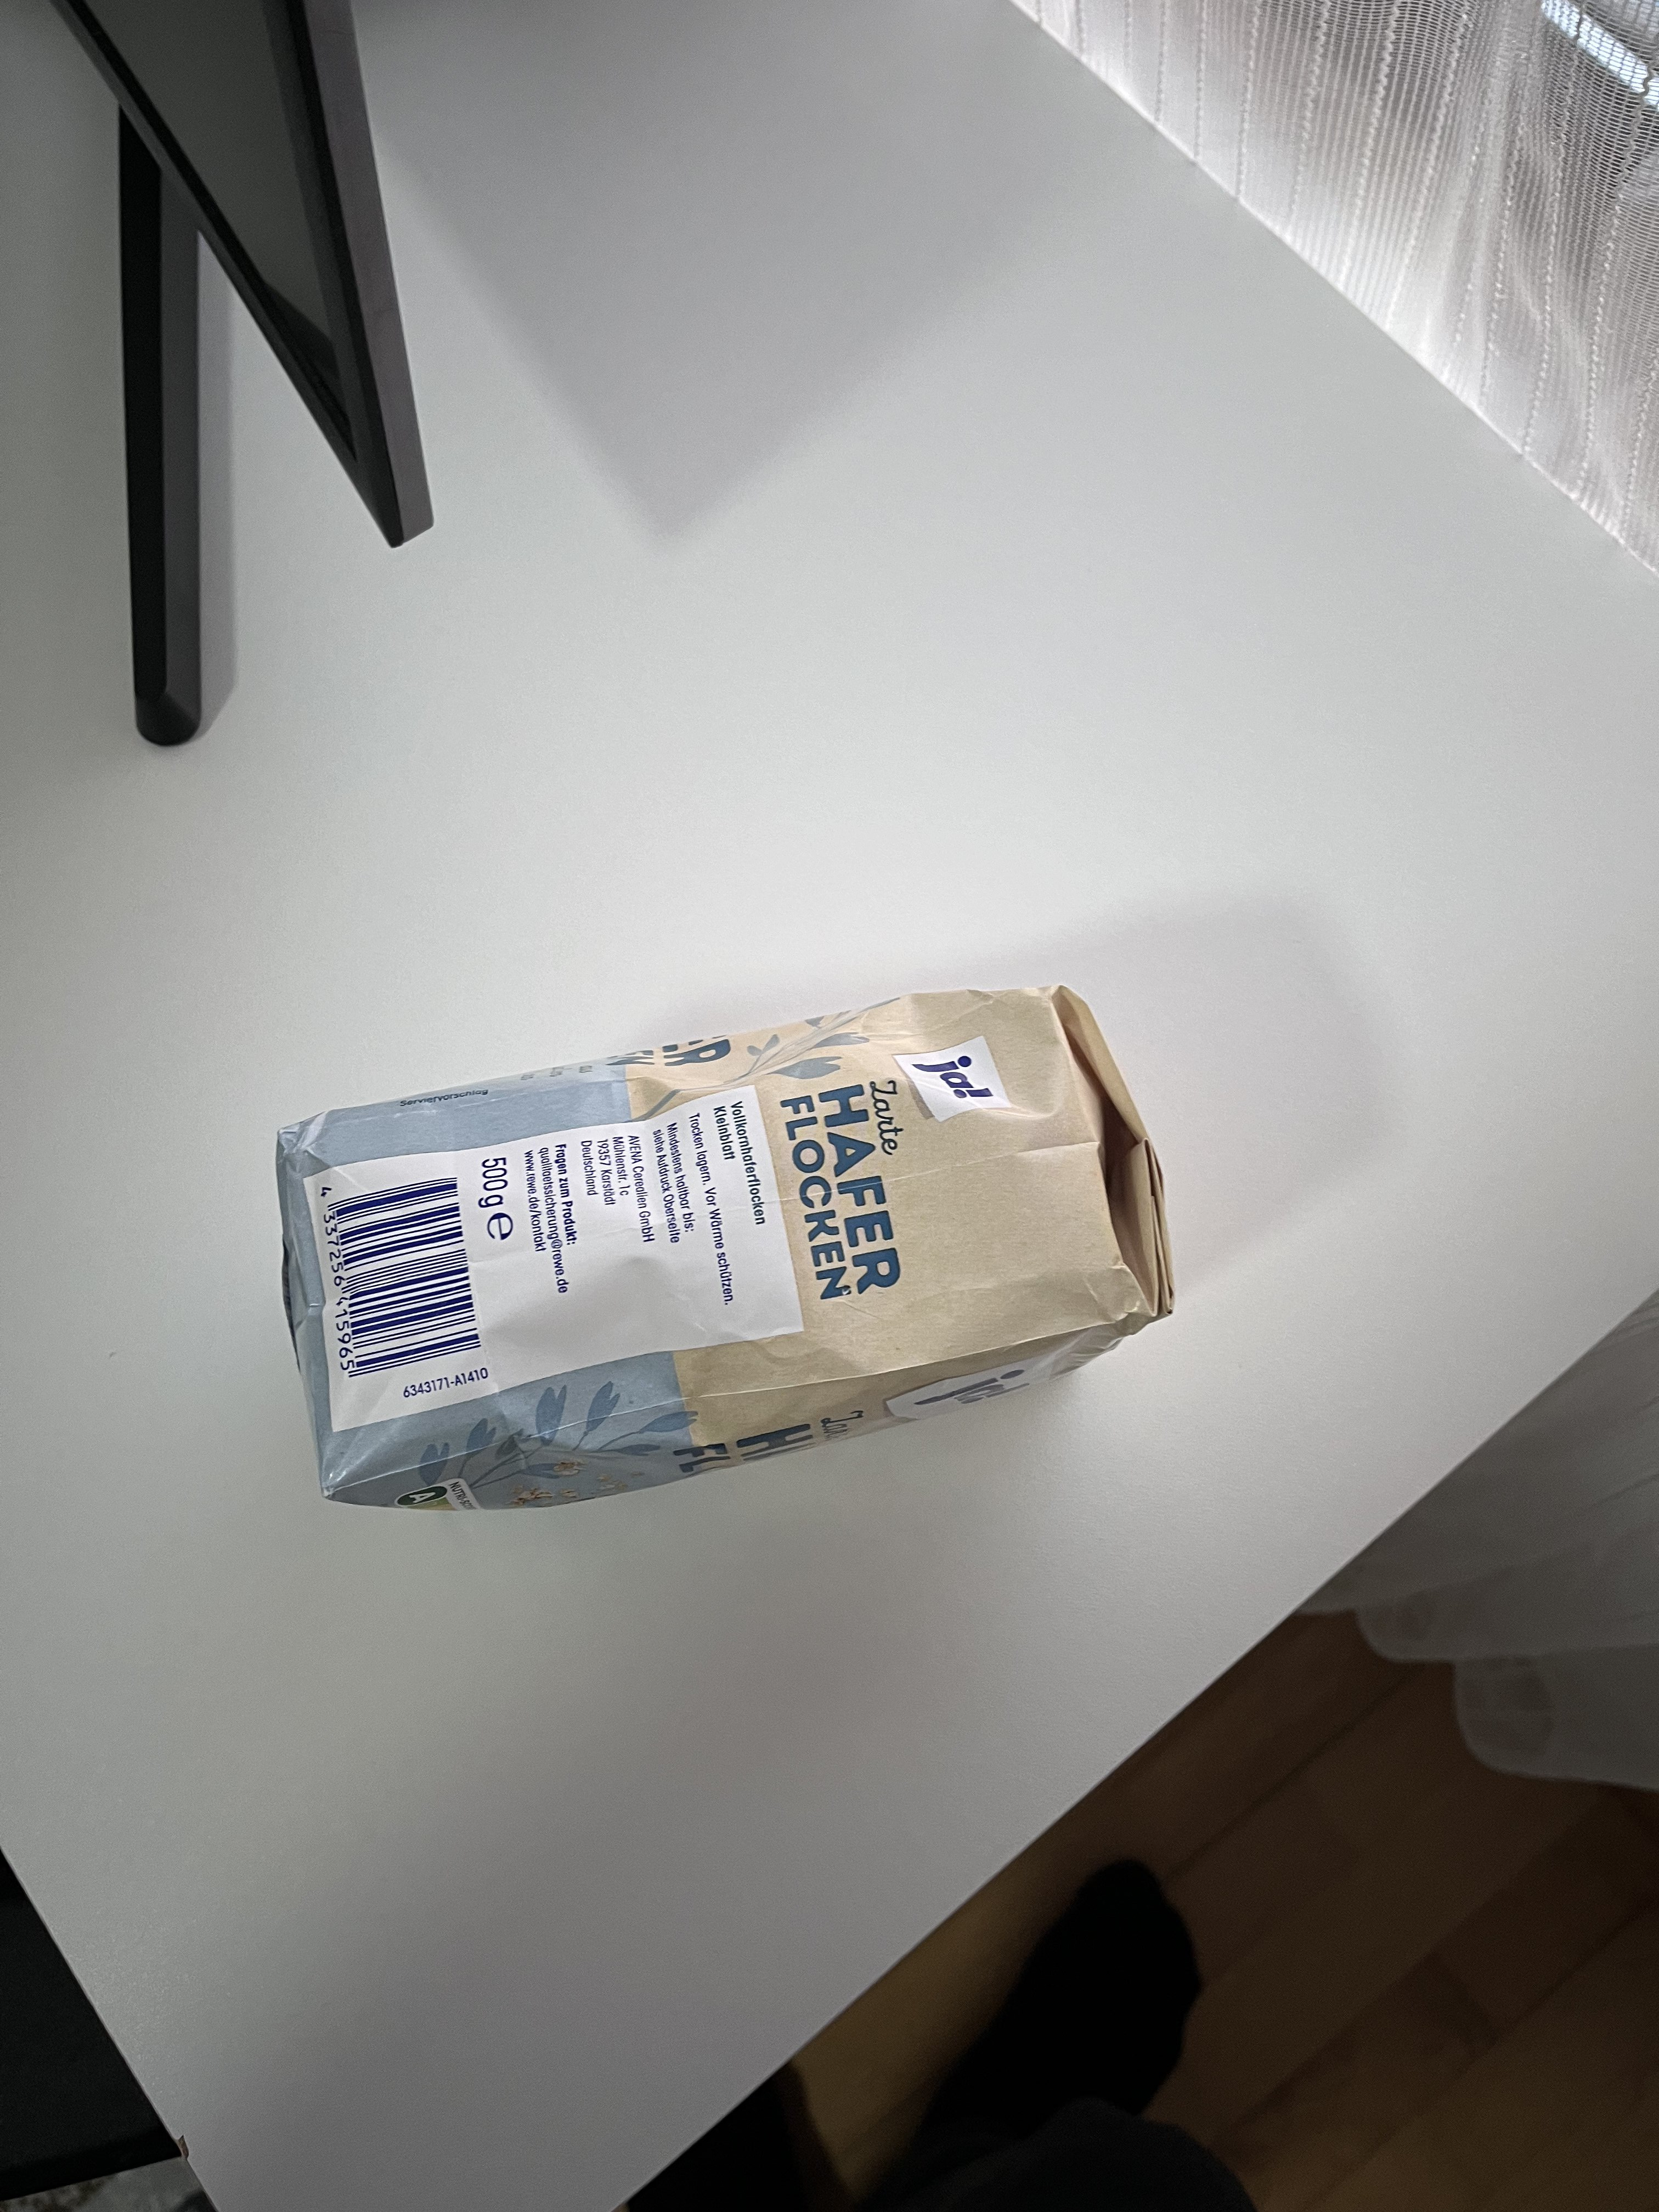haferflocken_ja: (272, 984, 1173, 1512)
